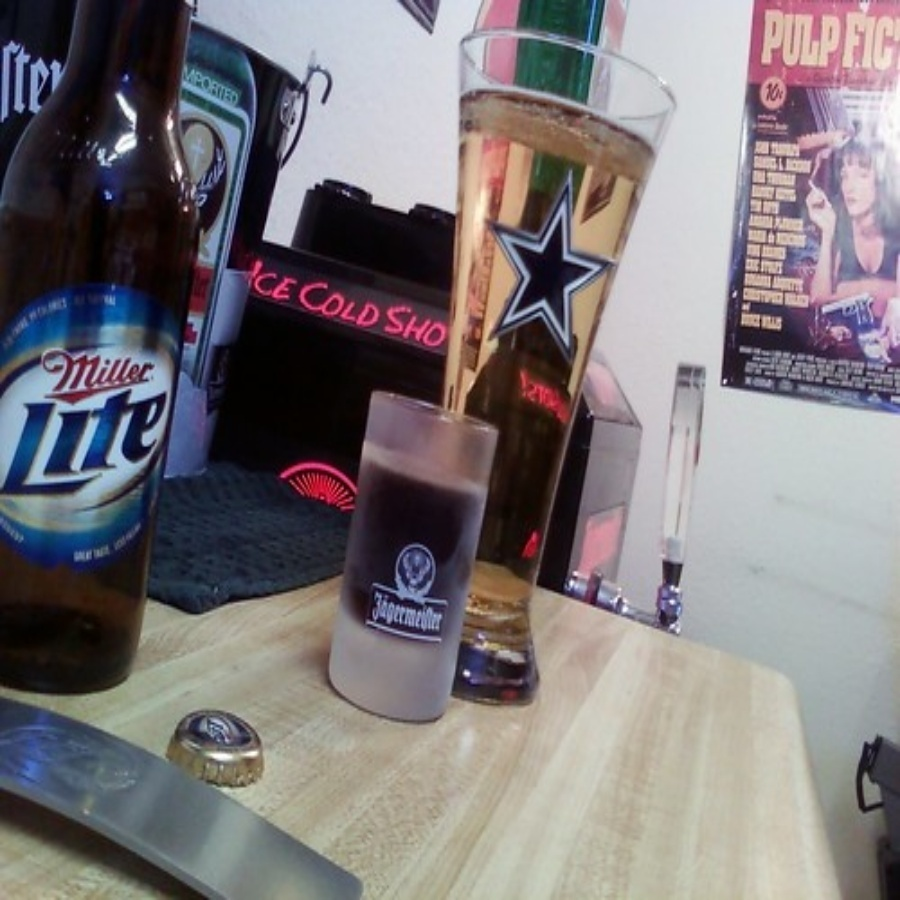whiskey: (307, 410, 498, 700)
